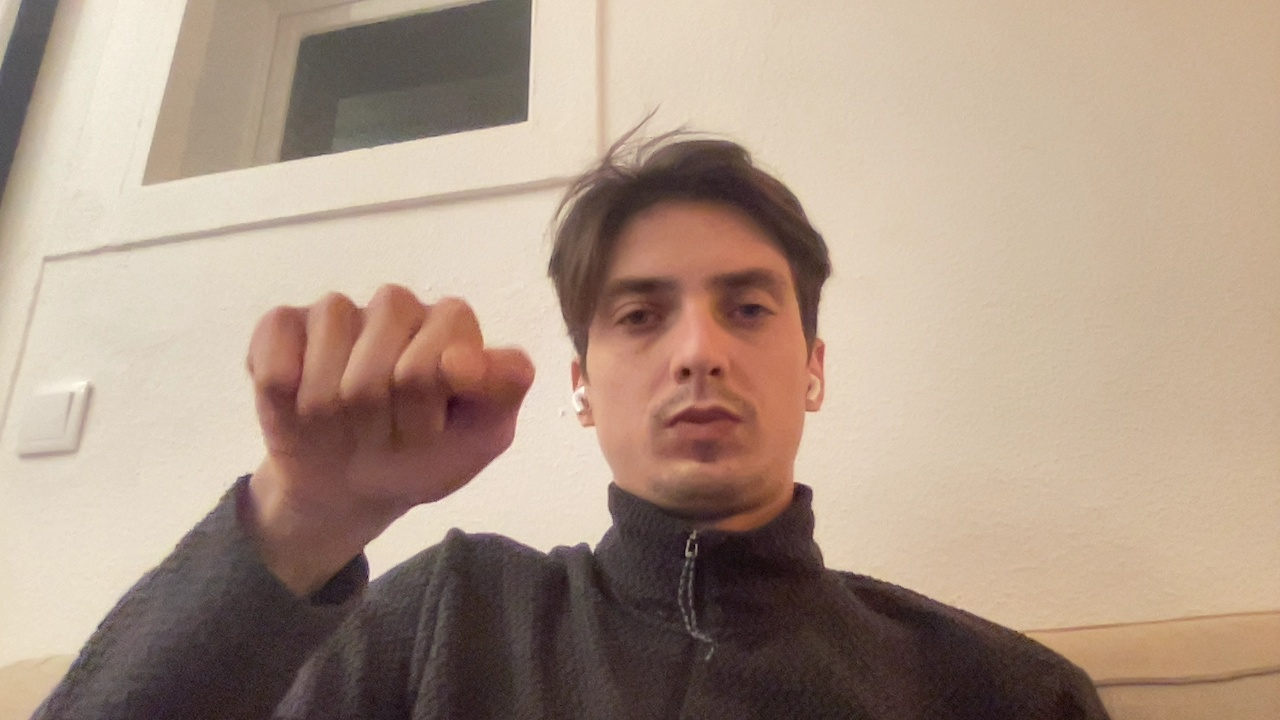Yes: (209, 264, 551, 533)
